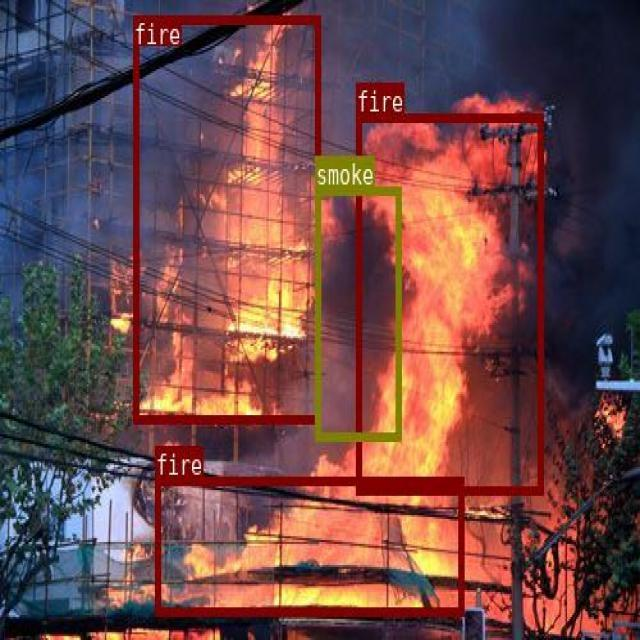fire: (133, 14, 319, 422), (356, 112, 542, 493), (155, 475, 463, 614)
smoke: (314, 187, 400, 439)
